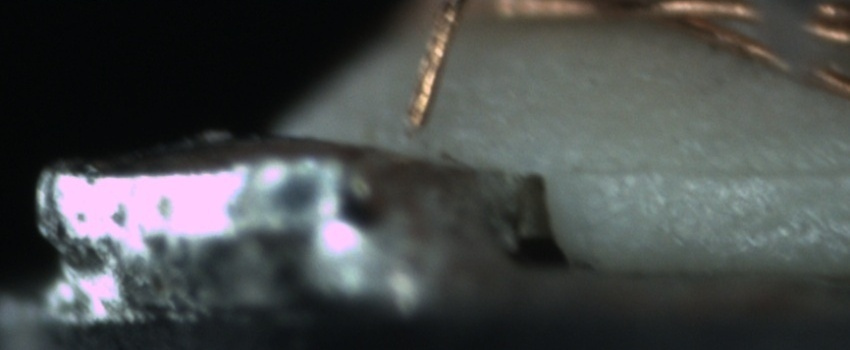DL: (575, 138, 849, 201)
